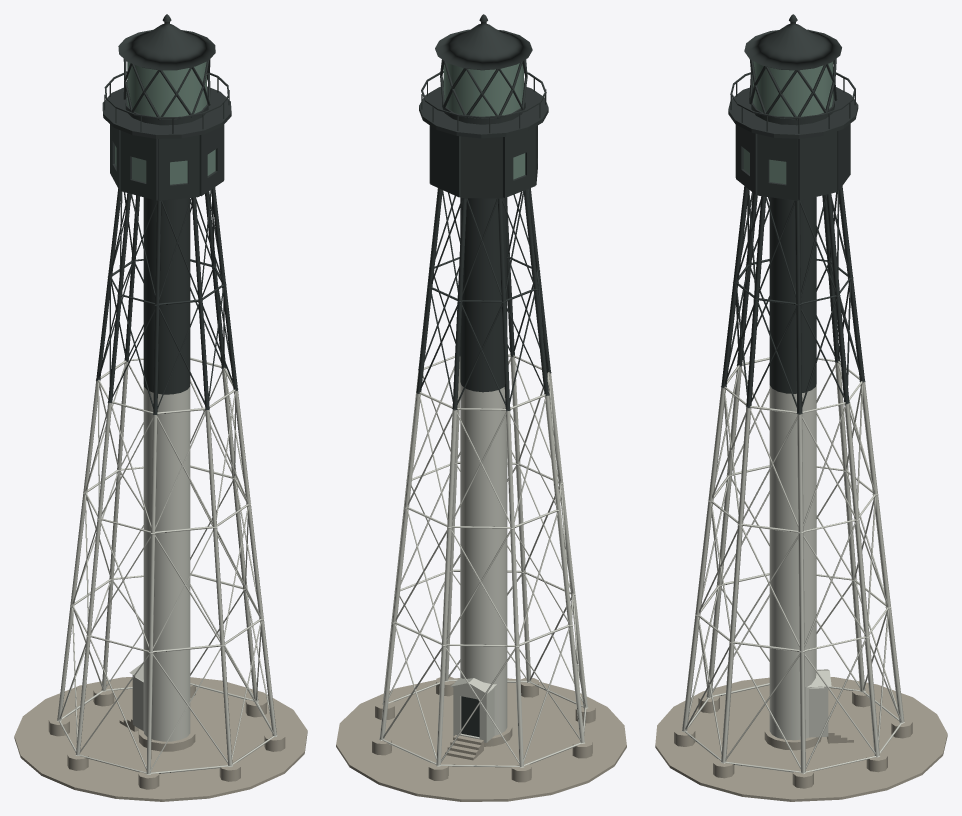
The model's file is hillsboro-inlet-lighthouse-far.glb.
The picture shows the model from 3 angles, left to right: view 1: azimuth 30°, elevation 25°; view 2: azimuth 150°, elevation 25°; view 3: azimuth 270°, elevation 25°; orthographic projection.
Parts seen in each view (by area): view 1: hillsboro-inlet-lighthouse-0-white, hillsboro-inlet-lighthouse-0-black, hillsboro-inlet-lighthouse-0-stone, hillsboro-inlet-lighthouse-0-glass; view 2: hillsboro-inlet-lighthouse-0-white, hillsboro-inlet-lighthouse-0-black, hillsboro-inlet-lighthouse-0-stone, hillsboro-inlet-lighthouse-0-glass; view 3: hillsboro-inlet-lighthouse-0-white, hillsboro-inlet-lighthouse-0-black, hillsboro-inlet-lighthouse-0-stone, hillsboro-inlet-lighthouse-0-glass.
Boxes of the visible parts, bbox=[...] form: hillsboro-inlet-lighthouse-0-white: bbox=[57, 357, 276, 773]; hillsboro-inlet-lighthouse-0-black: bbox=[96, 14, 237, 413]; hillsboro-inlet-lighthouse-0-stone: bbox=[14, 677, 307, 801]; hillsboro-inlet-lighthouse-0-glass: bbox=[115, 61, 215, 184]; hillsboro-inlet-lighthouse-0-white: bbox=[379, 354, 587, 767]; hillsboro-inlet-lighthouse-0-black: bbox=[416, 14, 550, 737]; hillsboro-inlet-lighthouse-0-stone: bbox=[336, 676, 626, 801]; hillsboro-inlet-lighthouse-0-glass: bbox=[443, 63, 525, 179]; hillsboro-inlet-lighthouse-0-white: bbox=[682, 357, 904, 773]; hillsboro-inlet-lighthouse-0-black: bbox=[721, 14, 864, 413]; hillsboro-inlet-lighthouse-0-stone: bbox=[655, 677, 947, 801]; hillsboro-inlet-lighthouse-0-glass: bbox=[743, 61, 833, 183].
Bounding box in the file's own units: 16.35 × 44.8 × 16.33.
